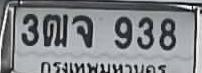3: (20, 13, 38, 45), (136, 16, 153, 48)
8: (159, 17, 175, 50)
9: (114, 15, 131, 48)
A08: (71, 14, 92, 47)
A18: (42, 13, 67, 46)
